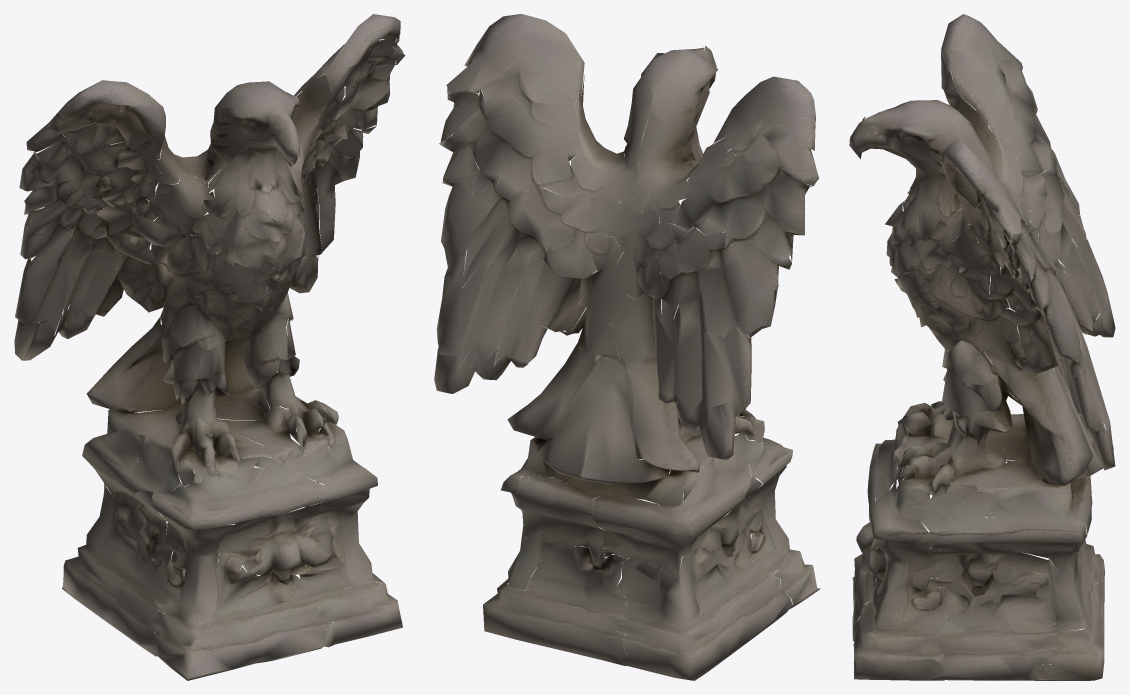
File: penn_eagle.glb
The picture shows the model from 3 angles, left to right: view 1: azimuth 30°, elevation 25°; view 2: azimuth 150°, elevation 25°; view 3: azimuth 270°, elevation 25°; orthographic projection. The views are drawn at different scales.
Parts seen in each view (by area): view 1: tripo_node_d4c220fc-b0a1-4a99-83ef-94e51e86ce09; view 2: tripo_node_d4c220fc-b0a1-4a99-83ef-94e51e86ce09; view 3: tripo_node_d4c220fc-b0a1-4a99-83ef-94e51e86ce09.
Boxes of the visible parts, left/top/right/bottom form: tripo_node_d4c220fc-b0a1-4a99-83ef-94e51e86ce09: left=14, top=14, right=405, bottom=680; tripo_node_d4c220fc-b0a1-4a99-83ef-94e51e86ce09: left=434, top=14, right=820, bottom=680; tripo_node_d4c220fc-b0a1-4a99-83ef-94e51e86ce09: left=849, top=14, right=1115, bottom=680.
Bounding box in the file's own units: 0.6975 × 0.9996 × 0.4386.
1 material, 1 textured.
